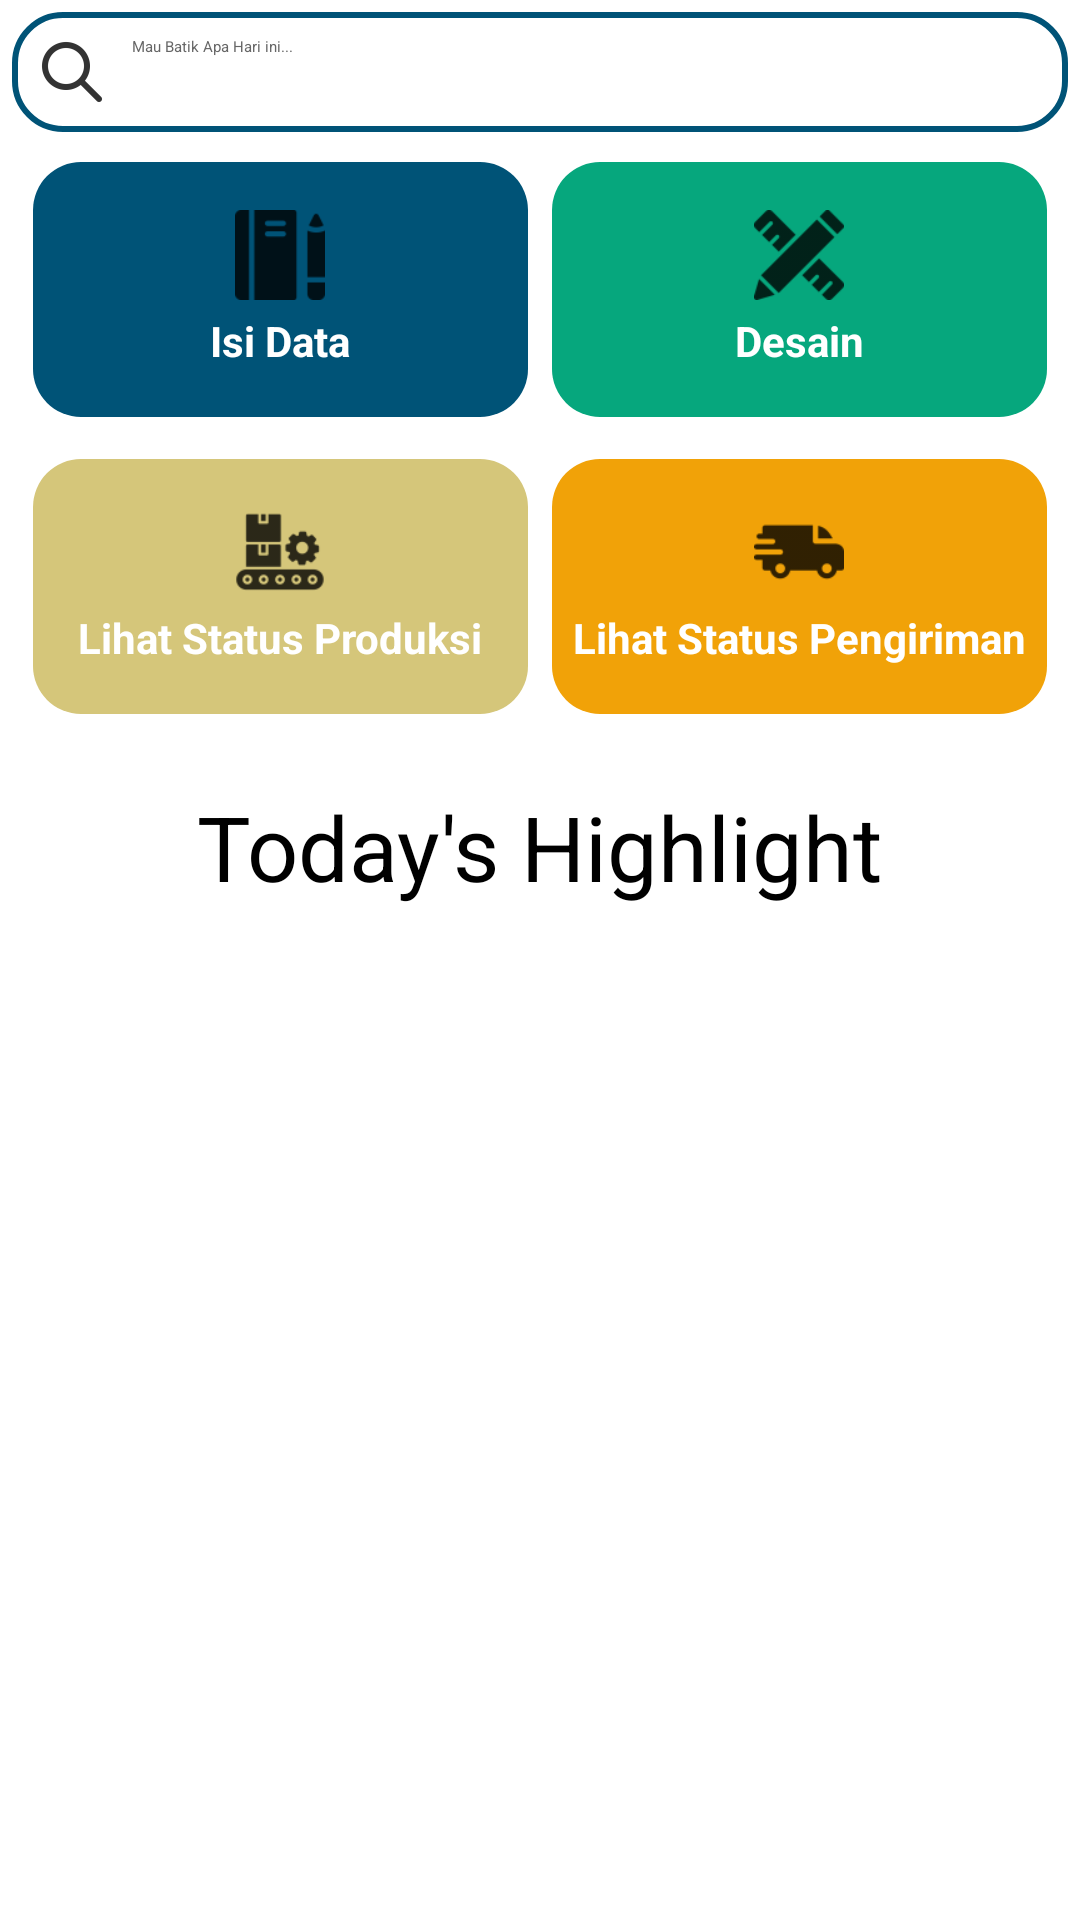

Screen size 1080 x 1920. Icon name, then its center in pixels as [x,y]:
search bar: [72,72]
